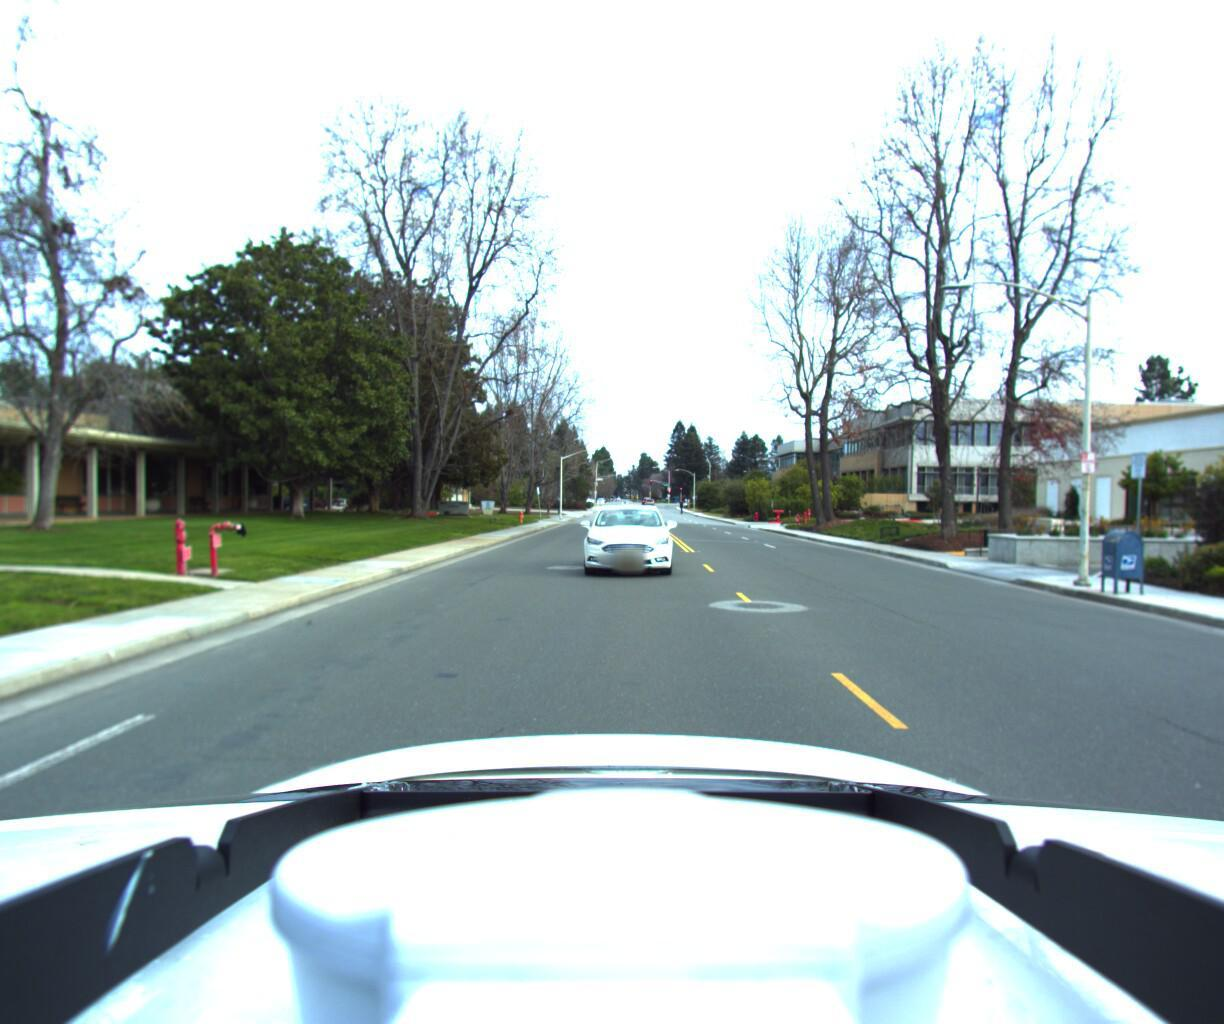car: (579, 501, 676, 580)
